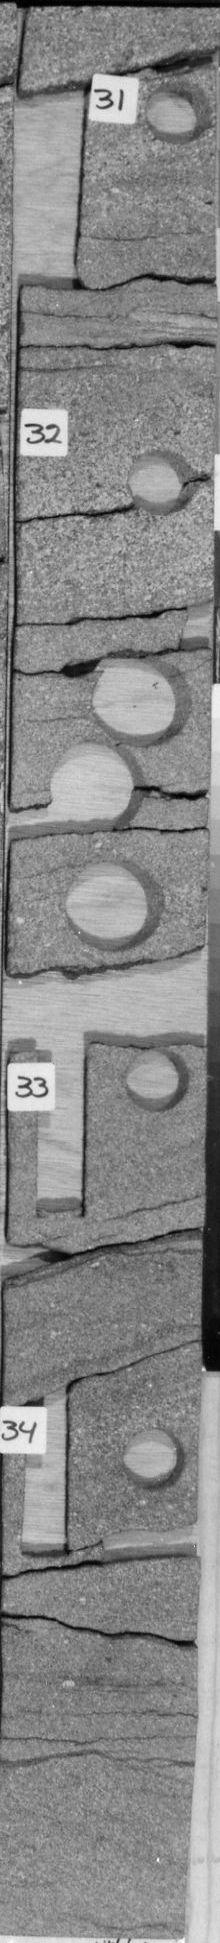hplug: (121, 442, 201, 524), (135, 72, 215, 152), (117, 1046, 193, 1120), (112, 1426, 189, 1494)
scal: (54, 850, 169, 955), (85, 644, 193, 753), (40, 739, 151, 844)
vplug: (15, 76, 96, 294), (25, 1050, 101, 1228), (15, 1378, 83, 1566)
